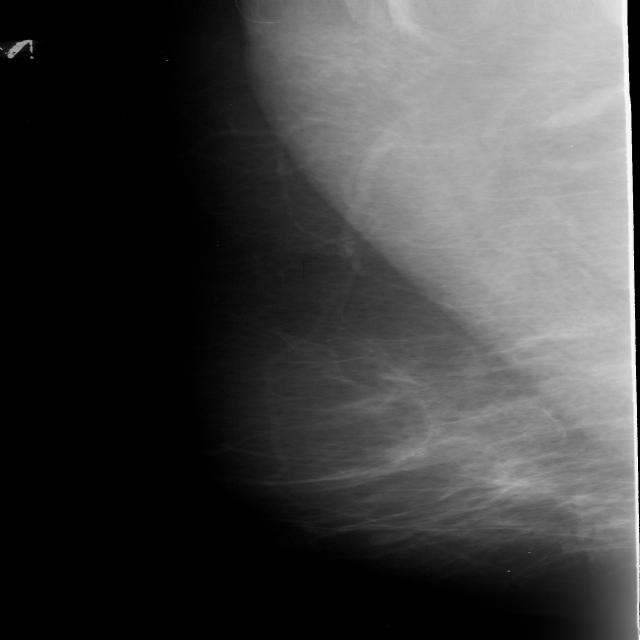cancer: (301, 378, 616, 514)
